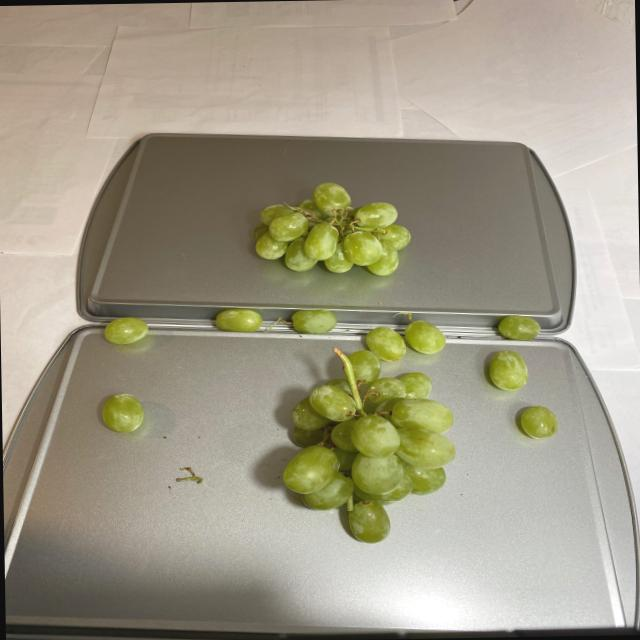grapes: (94, 302, 557, 541), (246, 182, 405, 280)
